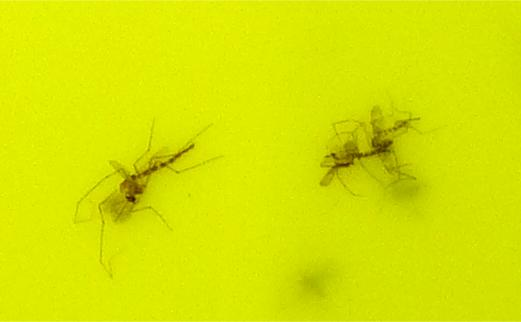Nematocera: (100, 141, 196, 222), (317, 132, 398, 190), (367, 100, 421, 146)
